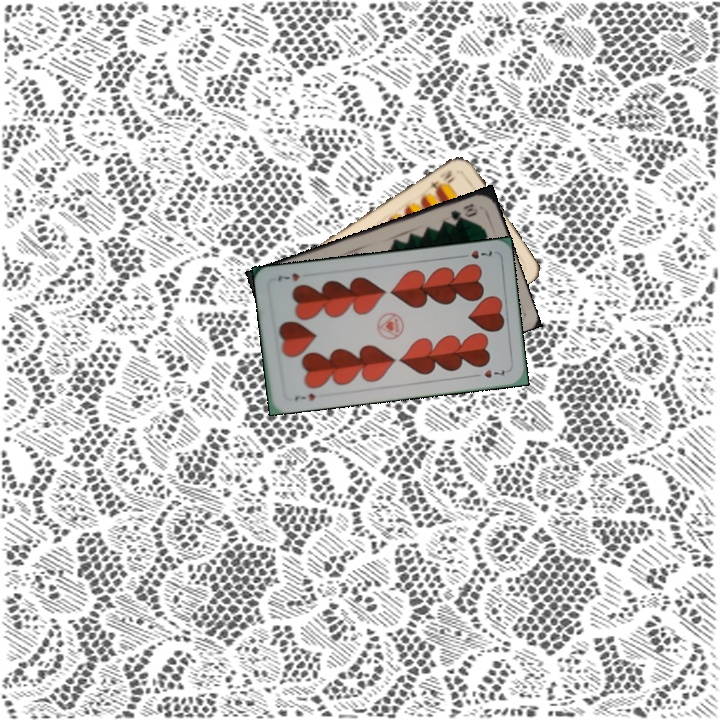E10: (425, 166, 455, 194)
G10: (446, 199, 480, 223)
H7: (456, 246, 494, 262), (291, 389, 318, 403)
